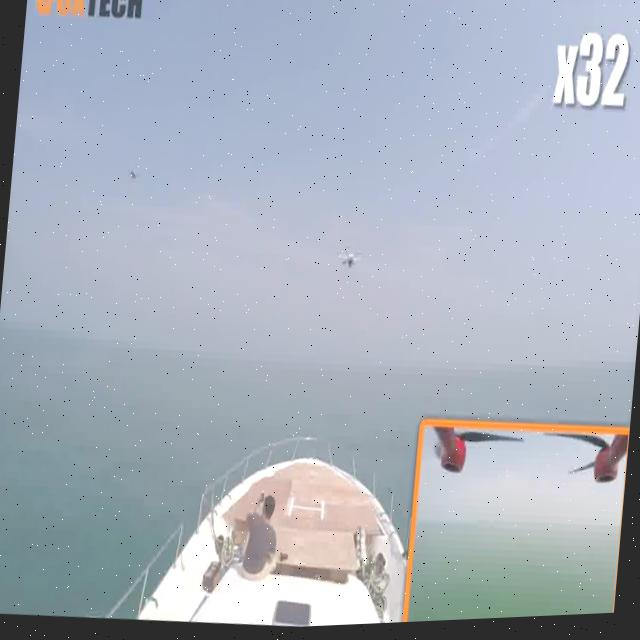drone: (326, 231, 370, 296), (118, 152, 151, 196)
